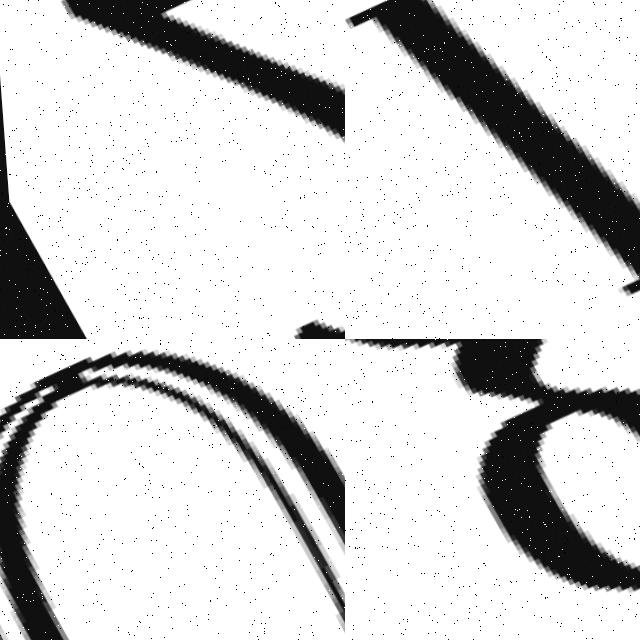0: (0, 339, 345, 640)
2: (33, 0, 345, 339)
F: (345, 0, 640, 339)
G: (345, 339, 640, 640)
